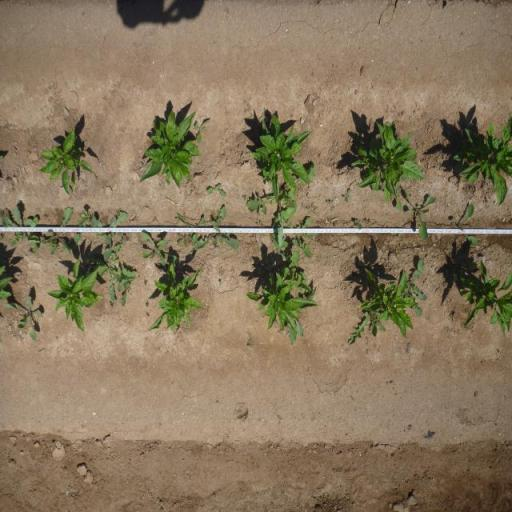plant: (451, 111, 512, 205), (350, 120, 426, 190), (137, 108, 199, 189), (244, 271, 311, 345), (250, 110, 310, 192), (357, 266, 415, 340), (45, 257, 98, 333), (37, 126, 94, 196), (150, 264, 204, 330), (465, 260, 512, 334)
weed: (94, 237, 136, 307), (178, 206, 240, 252), (271, 217, 316, 269), (28, 206, 74, 256), (2, 296, 44, 344), (403, 188, 437, 242), (2, 204, 38, 253), (96, 210, 128, 260), (246, 191, 298, 219), (347, 311, 382, 350), (141, 232, 178, 266), (451, 202, 479, 246), (72, 208, 97, 250), (405, 259, 429, 300), (194, 118, 212, 145), (206, 182, 227, 198), (176, 232, 192, 248), (305, 202, 319, 215), (245, 336, 256, 350), (342, 188, 352, 203), (326, 198, 336, 210), (217, 266, 226, 276), (354, 218, 362, 229), (144, 300, 150, 306), (452, 312, 458, 318), (144, 278, 148, 286), (218, 280, 223, 286)
